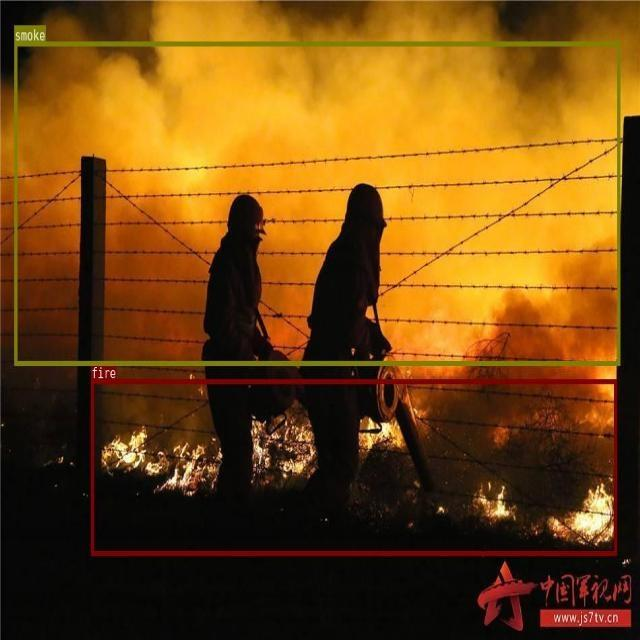fire: (91, 378, 616, 555)
smoke: (14, 41, 620, 364)
